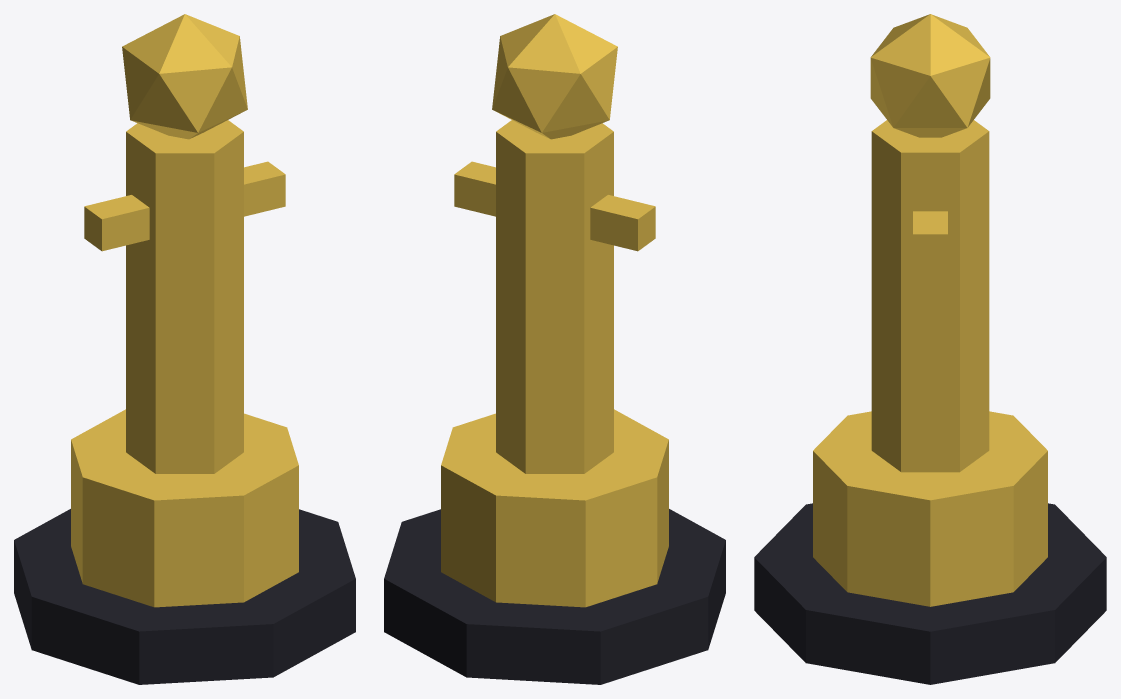
The model's file is film_award_statue.fbx.
3 views of the same model, side by side, from view 1: azimuth 30°, elevation 25°; view 2: azimuth 150°, elevation 25°; view 3: azimuth 270°, elevation 25° (orthographic).
Visible parts, largest first — view 1: film_award_statue; view 2: film_award_statue; view 3: film_award_statue.
Part boxes in pixels (x1=…): film_award_statue: x1=14, y1=14, x2=355, y2=684; film_award_statue: x1=384, y1=14, x2=725, y2=684; film_award_statue: x1=754, y1=14, x2=1106, y2=684.
Size of the model in its own units: 0.3 by 0.56 by 0.3.
